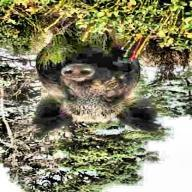boar: (35, 15, 152, 143)
